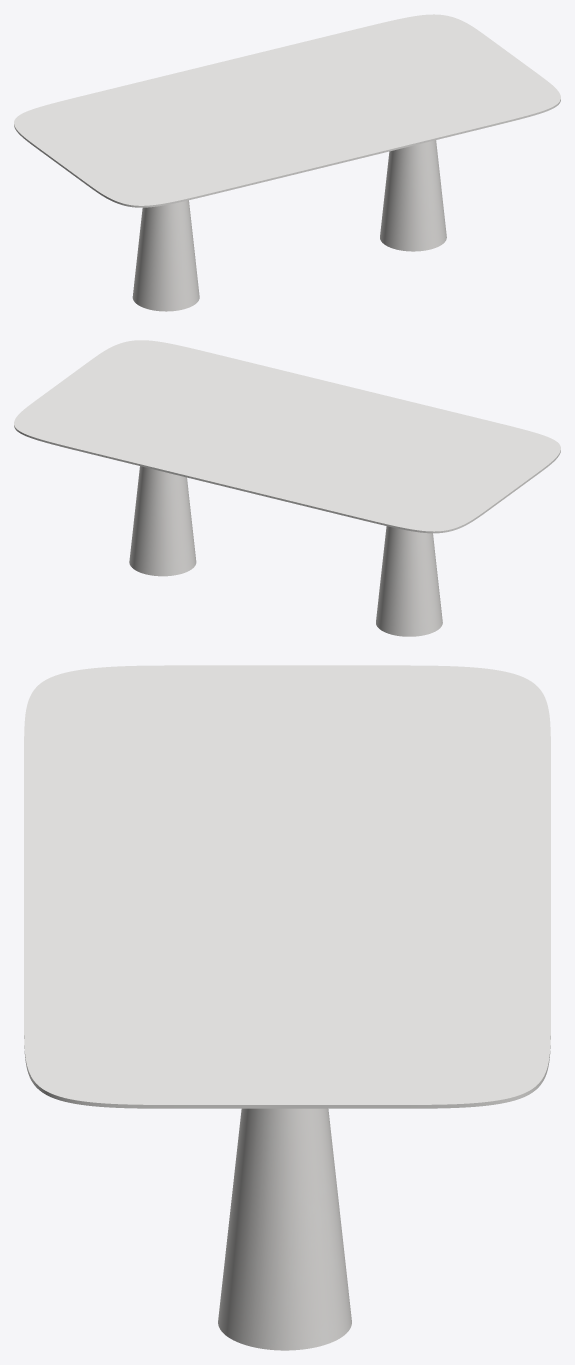
The model's file is purewhite_softrecta_facet_pebble.glb.
3 renders of one model, top to bottom at view 1: azimuth 30°, elevation 25°; view 2: azimuth 150°, elevation 25°; view 3: azimuth 270°, elevation 25°, orthographic. The views are drawn at different scales.
Visible parts, largest first — view 1: facet_softrecta, pebble; view 2: facet_softrecta, pebble; view 3: facet_softrecta, pebble.
Part boxes in pixels (box(x1,y1,x2,y2)): facet_softrecta: box(14, 14, 560, 207); pebble: box(132, 140, 446, 311); facet_softrecta: box(14, 340, 560, 533); pebble: box(129, 466, 442, 636); facet_softrecta: box(24, 665, 550, 1108); pebble: box(218, 1108, 351, 1350).
Bounding box in the file's own units: 7.5 × 2.5 × 3.8.
Materials: 1 (1 with a texture image).
